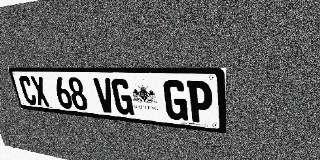6: (52, 77, 74, 109)
8: (66, 77, 89, 111)
C: (18, 76, 38, 105)
G: (163, 80, 188, 121), (110, 78, 134, 115)
P: (187, 80, 213, 124)
V: (93, 78, 116, 114)
X: (30, 76, 50, 107)
